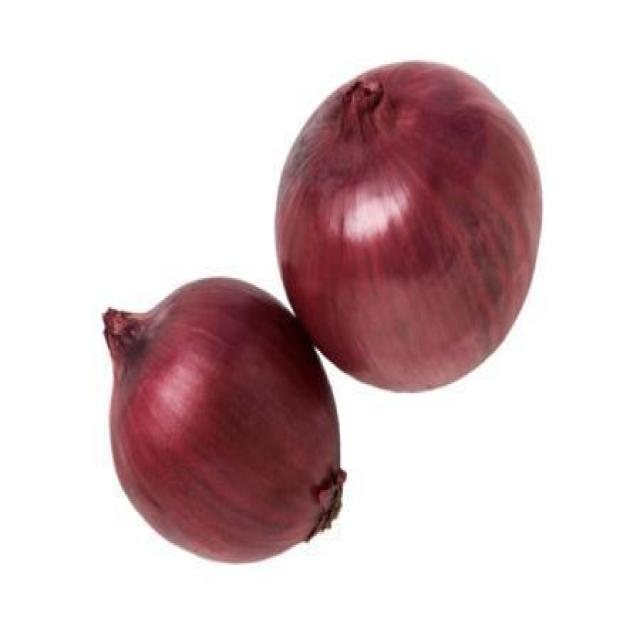Onion: (274, 58, 542, 395), (103, 276, 344, 563)
